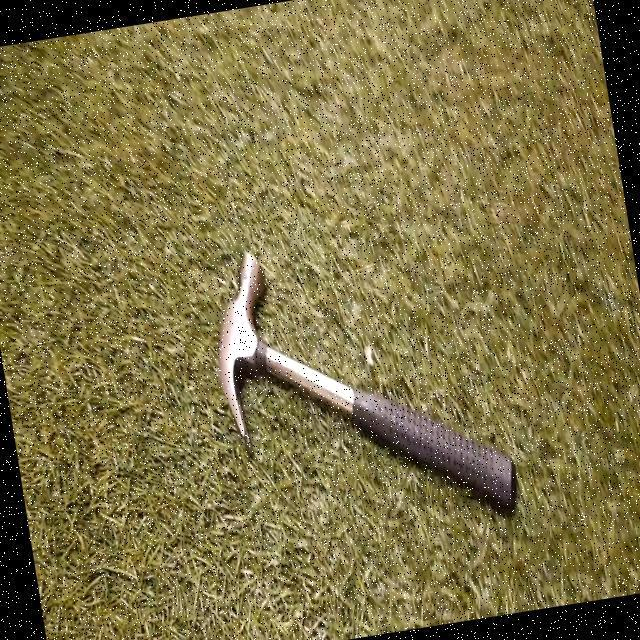hammer: (192, 204, 528, 576)
